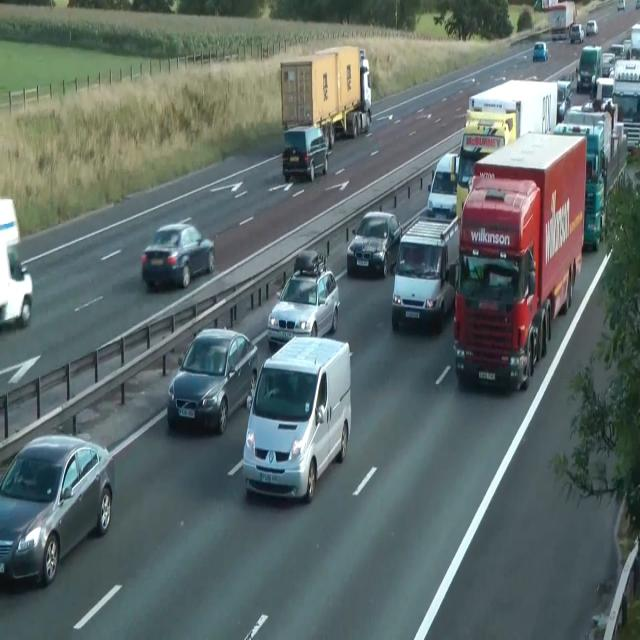bus: (0, 432, 114, 587), (167, 326, 258, 434), (141, 220, 215, 290), (346, 209, 402, 278), (427, 150, 459, 218), (601, 52, 615, 78), (532, 41, 548, 62), (569, 23, 584, 44), (610, 44, 624, 60), (586, 20, 598, 36), (617, 0, 625, 11)
jeep: (242, 334, 352, 502), (390, 214, 460, 332), (266, 248, 340, 348), (281, 124, 329, 182)
minibus: (453, 130, 587, 391), (455, 78, 558, 222), (553, 100, 627, 250), (279, 44, 372, 150), (0, 196, 33, 328), (612, 59, 640, 157), (576, 44, 602, 92), (551, 1, 577, 40), (556, 79, 572, 121), (623, 22, 639, 60)
